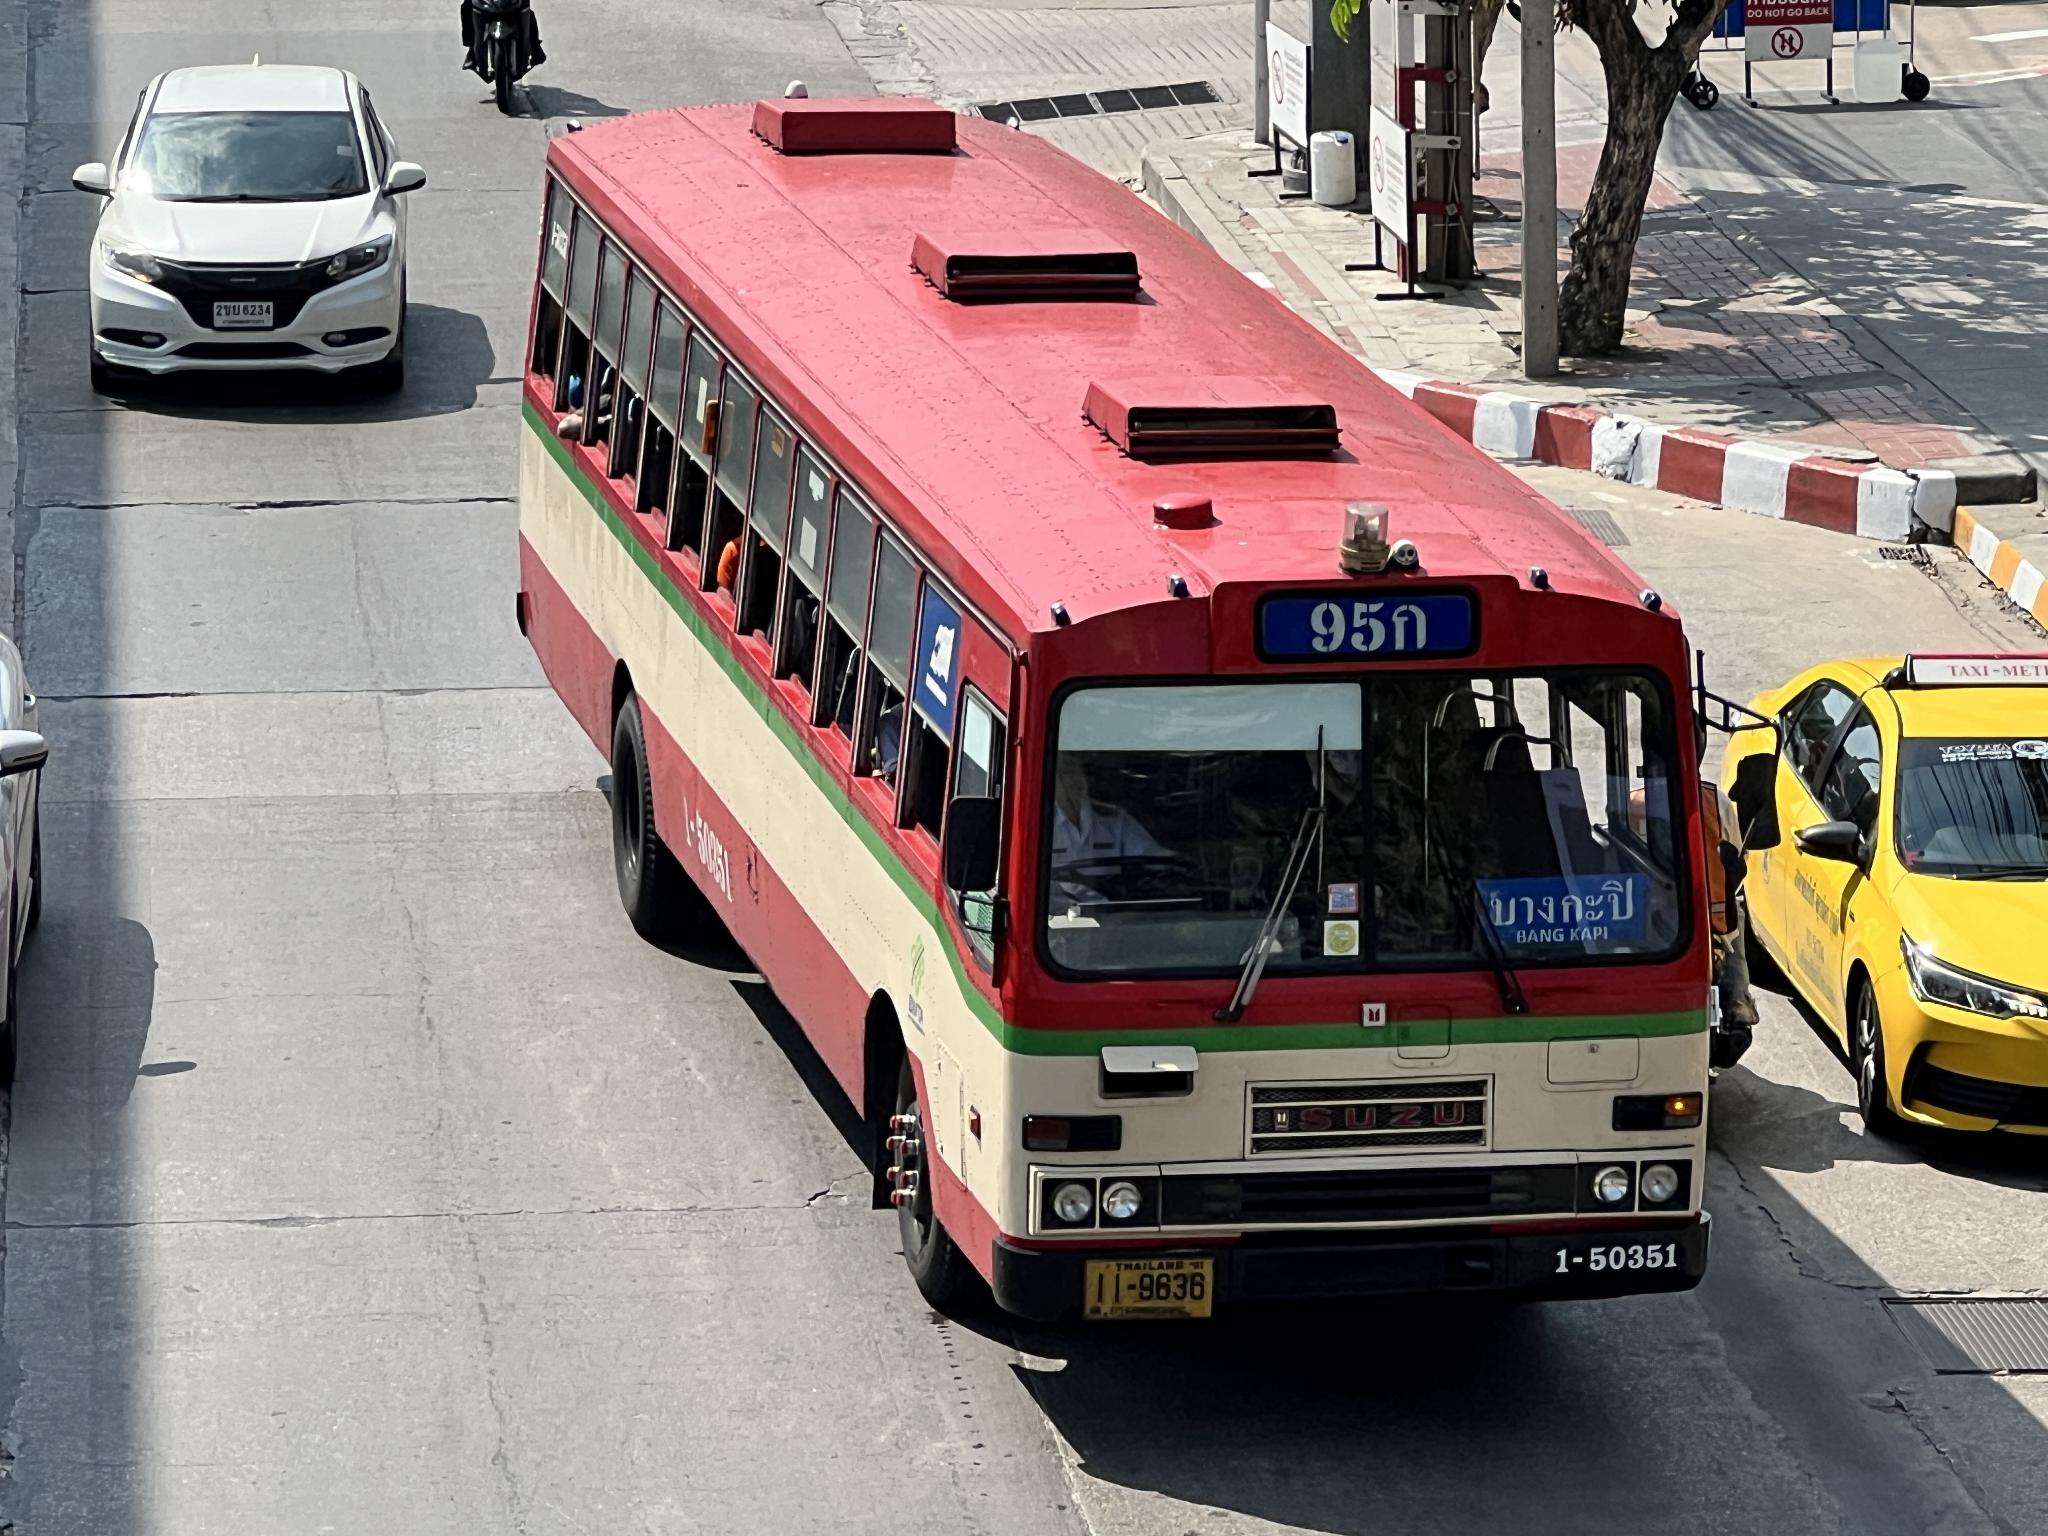BMTA-bus: (513, 94, 1734, 1338)
Bus Line Number: (1253, 576, 1490, 674)
Bus Side Number: (1545, 1238, 1685, 1278)
Destination Sign: (1469, 878, 1645, 947)
